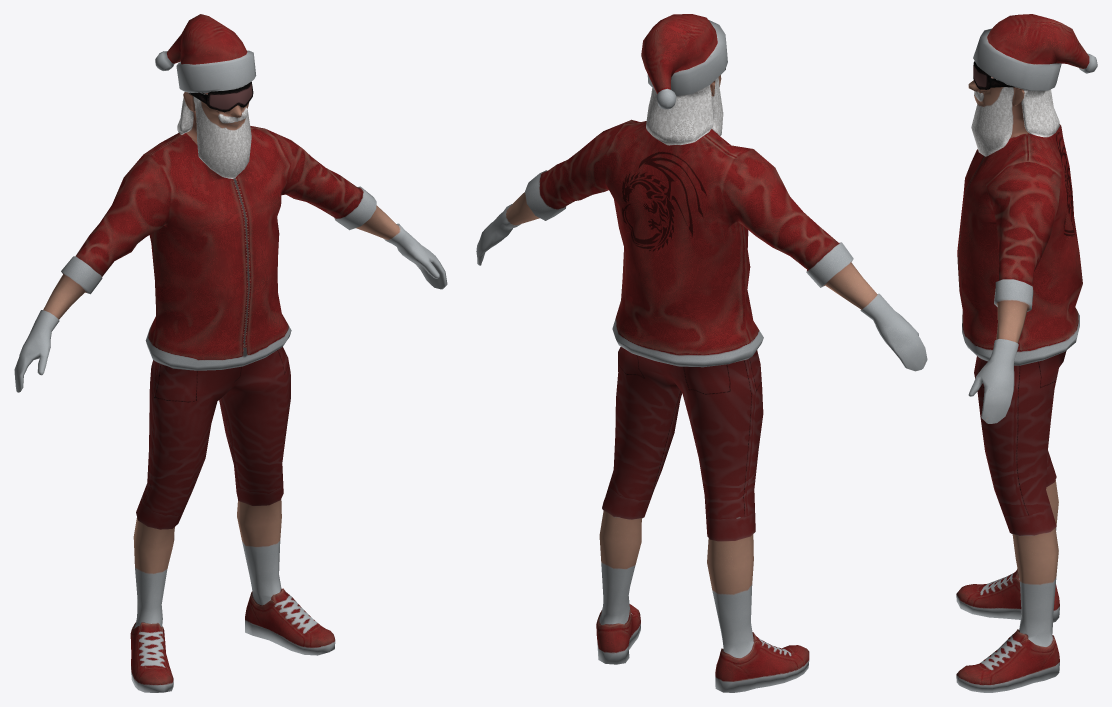
3 renders of one model, left to right at view 1: azimuth 30°, elevation 25°; view 2: azimuth 150°, elevation 25°; view 3: azimuth 270°, elevation 25°, orthographic. The views are drawn at different scales.
Visible parts, largest first — view 1: Santa_lp2; view 2: Santa_lp2; view 3: Santa_lp2.
Boxes of the visible parts, x1,y1,x2,y2 form: Santa_lp2: [14, 14, 447, 692]; Santa_lp2: [476, 14, 927, 692]; Santa_lp2: [956, 14, 1097, 692].
Size of the model in its own units: 134 by 188 by 38.34.
